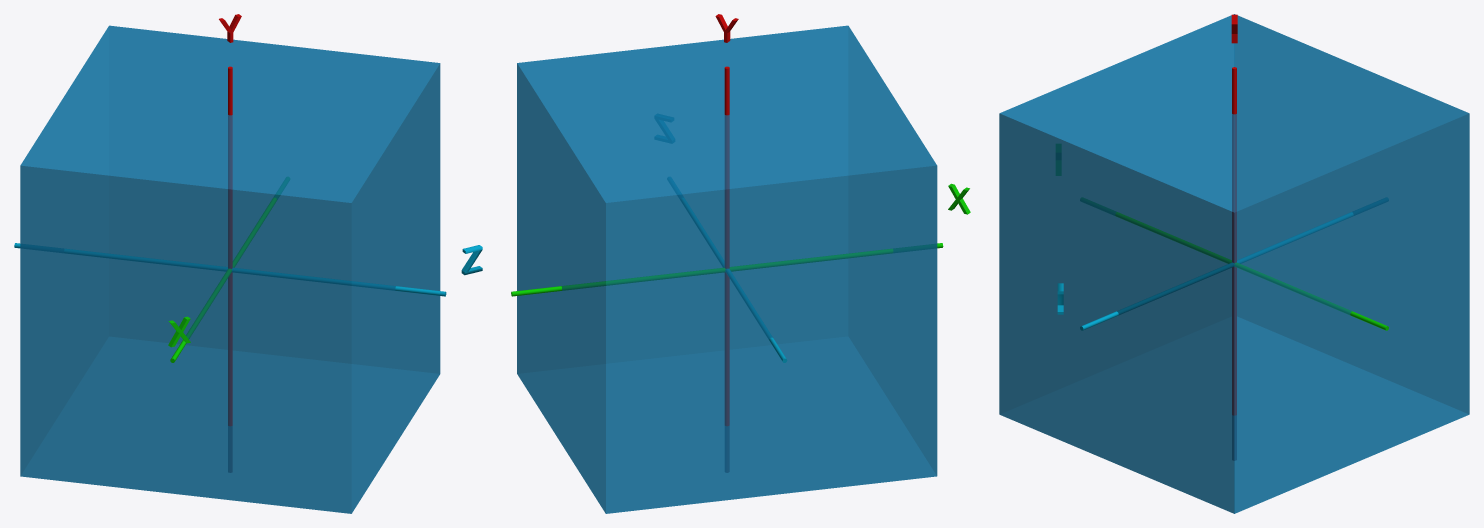
3 renders of one model, left to right at view 1: azimuth 30°, elevation 25°; view 2: azimuth 150°, elevation 25°; view 3: azimuth 270°, elevation 25°, orthographic. The views are drawn at different scales.
Parts seen in each view (by area): view 1: Cube.001_Cube, z_axis_Untitled.008, y_axis_Untitled, x_axis_Untitled.010; view 2: Cube.001_Cube, x_axis_Untitled.010, y_axis_Untitled, z_axis_Untitled.008; view 3: Cube.001_Cube, y_axis_Untitled, x_axis_Untitled.010, z_axis_Untitled.008.
Boxes of the visible parts, left/top/right/bottom form: Cube.001_Cube: left=20, top=25, right=440, bottom=513; z_axis_Untitled.008: left=14, top=243, right=446, bottom=296; y_axis_Untitled: left=228, top=66, right=232, bottom=426; x_axis_Untitled.010: left=170, top=197, right=276, bottom=362; Cube.001_Cube: left=517, top=25, right=937, bottom=513; x_axis_Untitled.010: left=511, top=243, right=943, bottom=296; y_axis_Untitled: left=724, top=66, right=729, bottom=426; z_axis_Untitled.008: left=680, top=197, right=787, bottom=362; Cube.001_Cube: left=999, top=14, right=1469, bottom=513; y_axis_Untitled: left=1232, top=67, right=1236, bottom=415; x_axis_Untitled.010: left=1115, top=212, right=1388, bottom=330; z_axis_Untitled.008: left=1080, top=212, right=1353, bottom=330.
Bounding box in the file's own units: 3.96 × 4.09 × 3.96.
